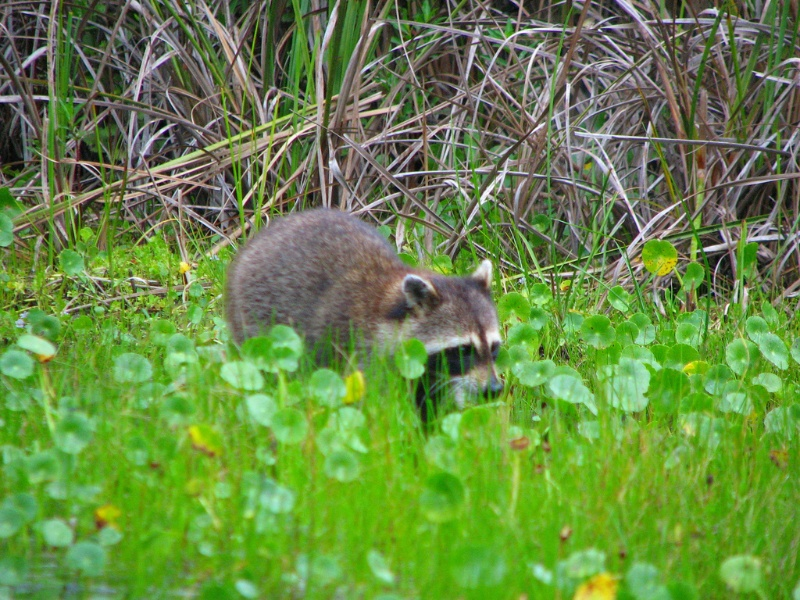raccoon: (224, 208, 509, 431)
